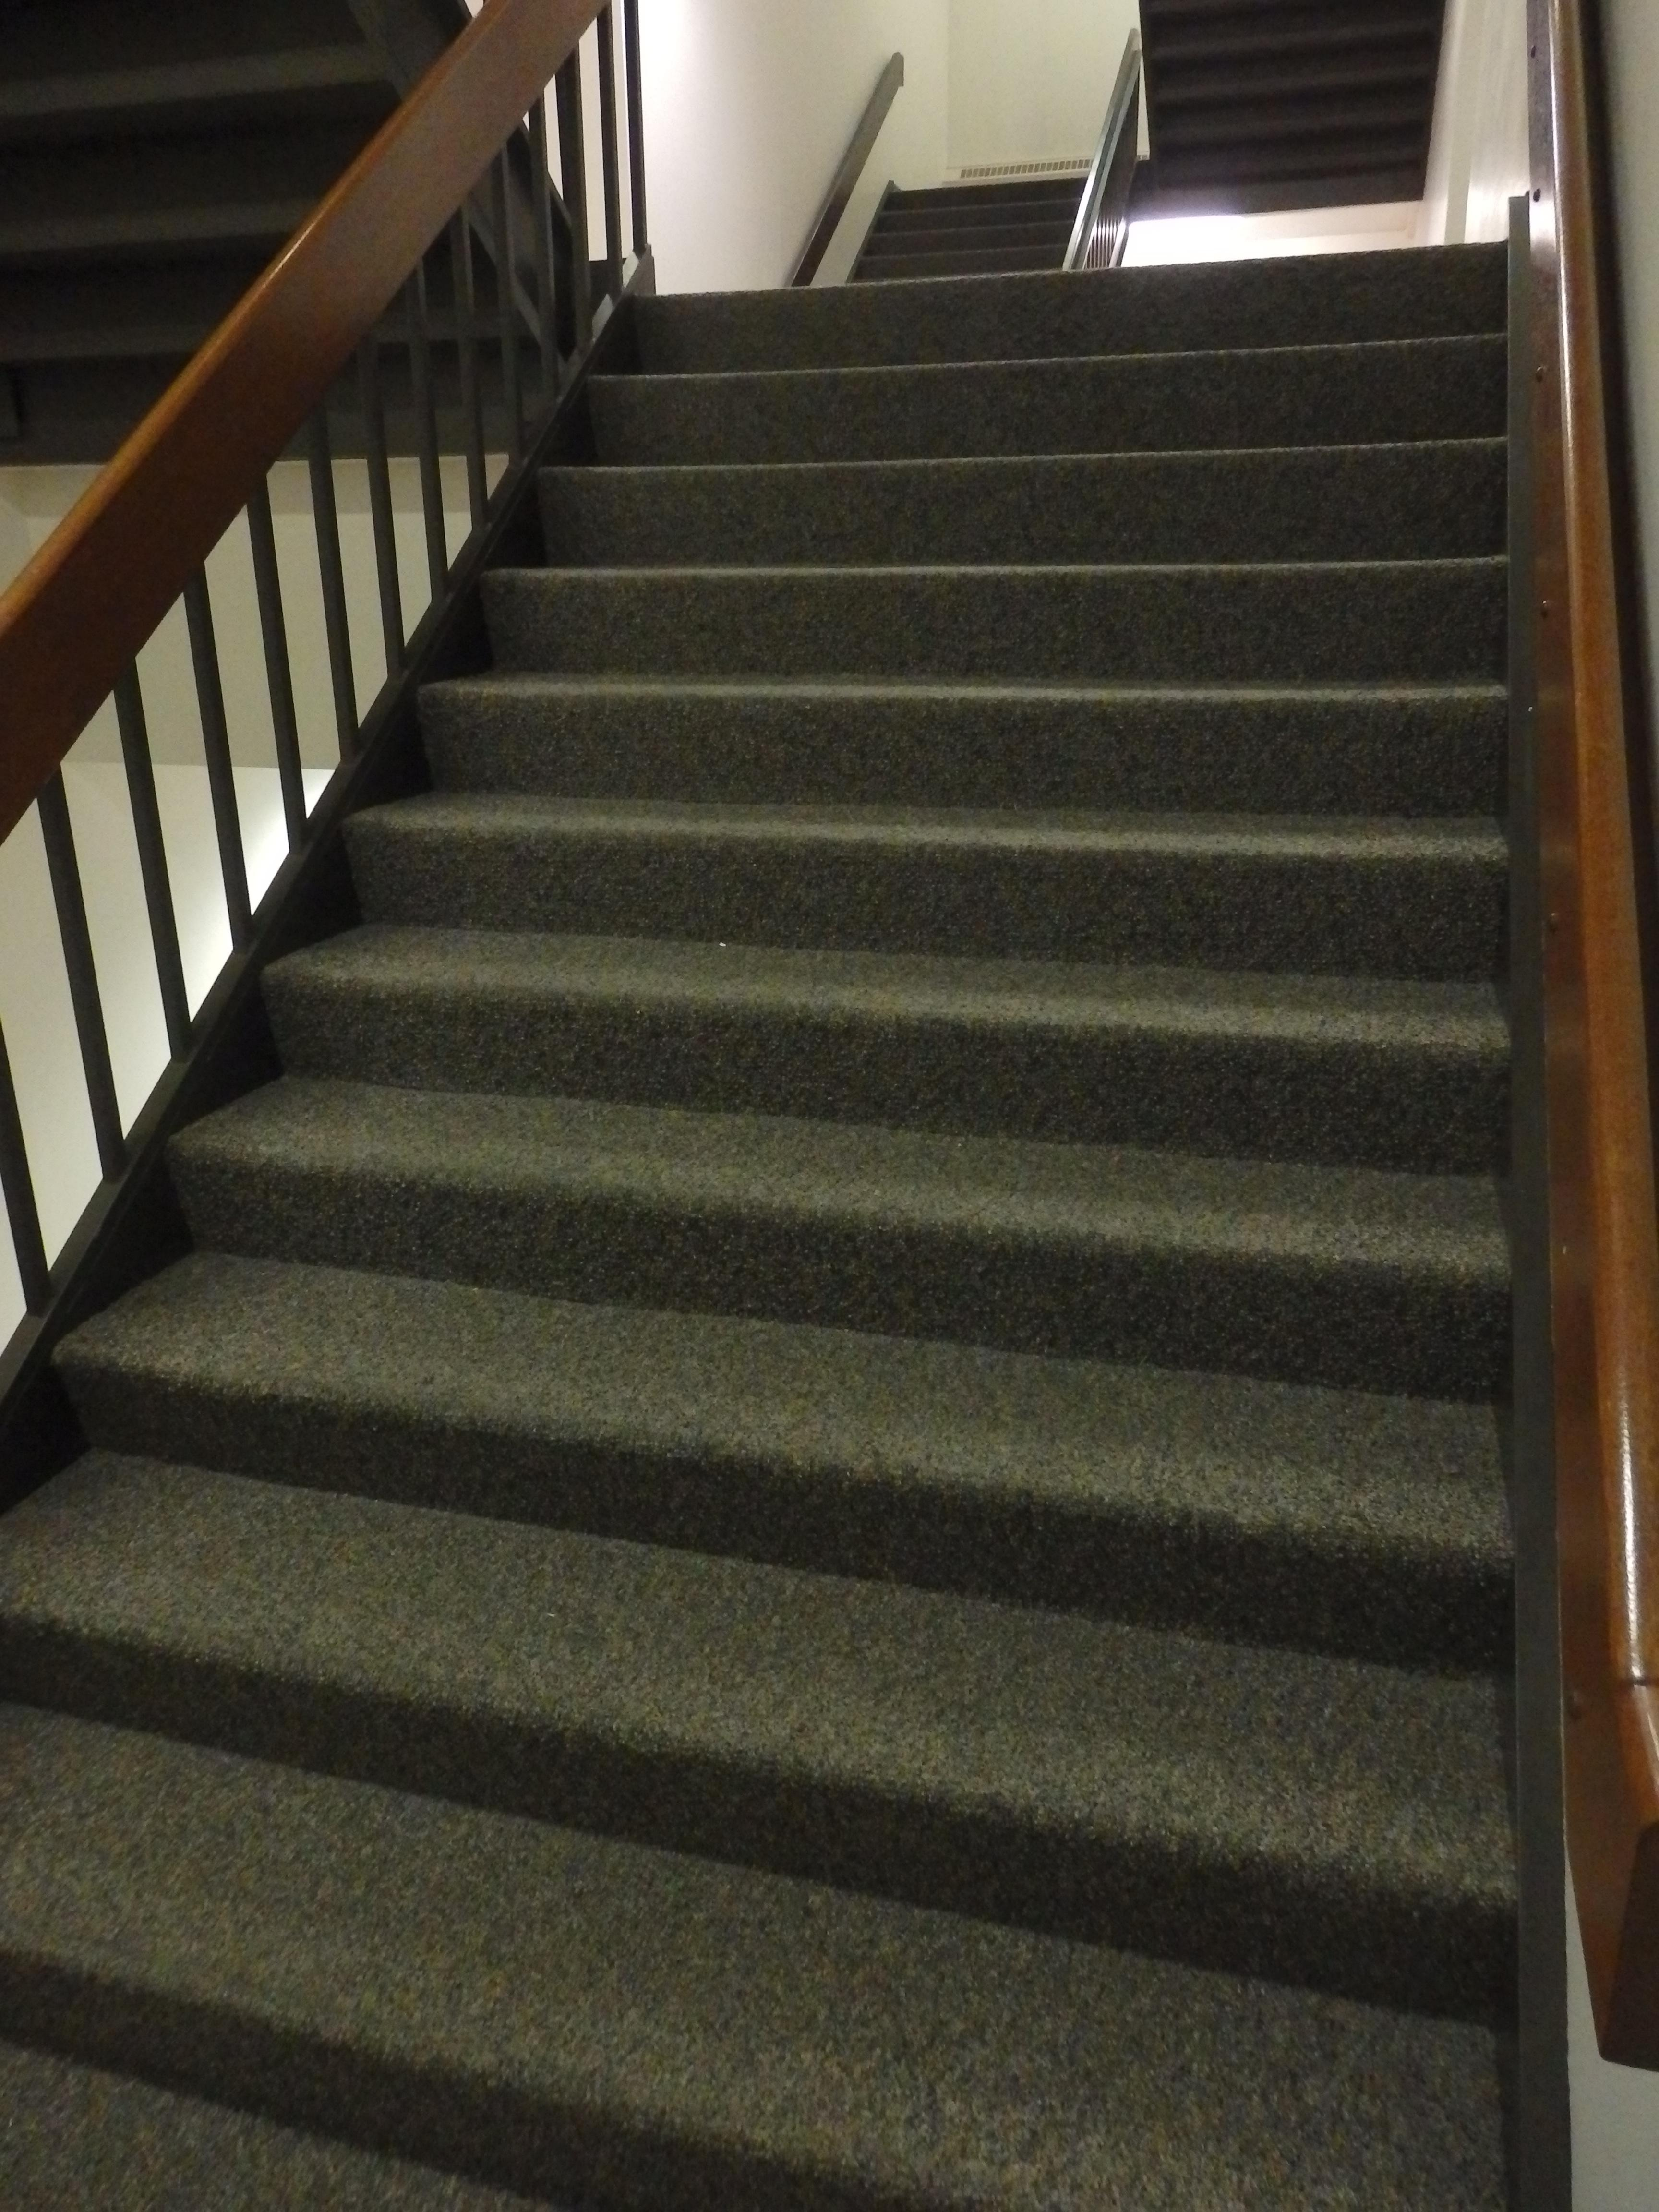stairs_up: (73, 214, 1537, 2102)
